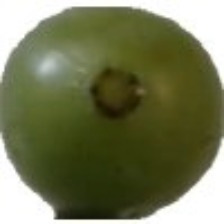grapes: (41, 9, 198, 181)
